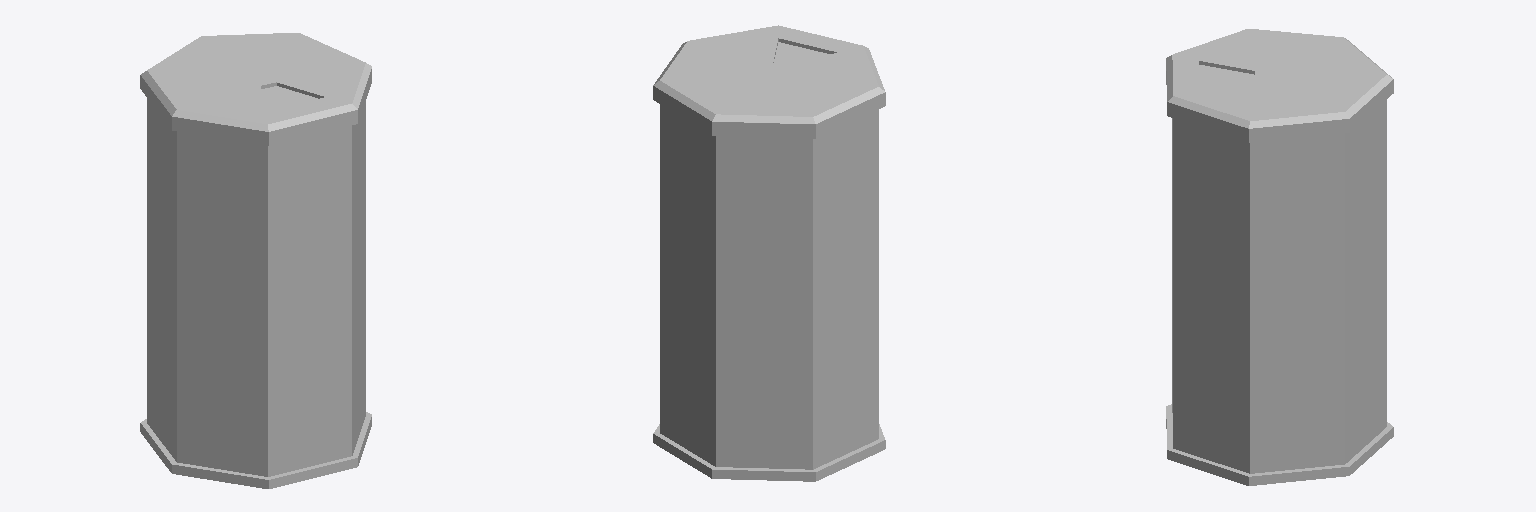
Rendered from sugerholder.obj.
3 views of the same model, side by side, from view 1: azimuth 30°, elevation 25°; view 2: azimuth 150°, elevation 25°; view 3: azimuth 270°, elevation 25° (orthographic).
Parts seen in each view (by area): view 1: sugerBottle3; view 2: sugerBottle3; view 3: sugerBottle3.
Boxes of the visible parts, box(x1,y1,x2,y2) form: sugerBottle3: box(140, 33, 371, 488); sugerBottle3: box(653, 25, 885, 481); sugerBottle3: box(1166, 29, 1393, 485).
Size of the model in its own units: 79.81 by 137 by 77.96.